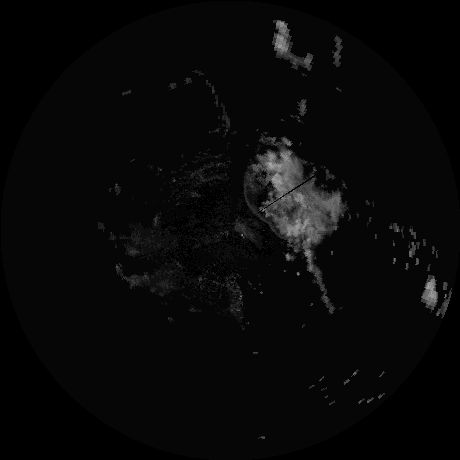frontgust: (241, 166, 288, 239)
